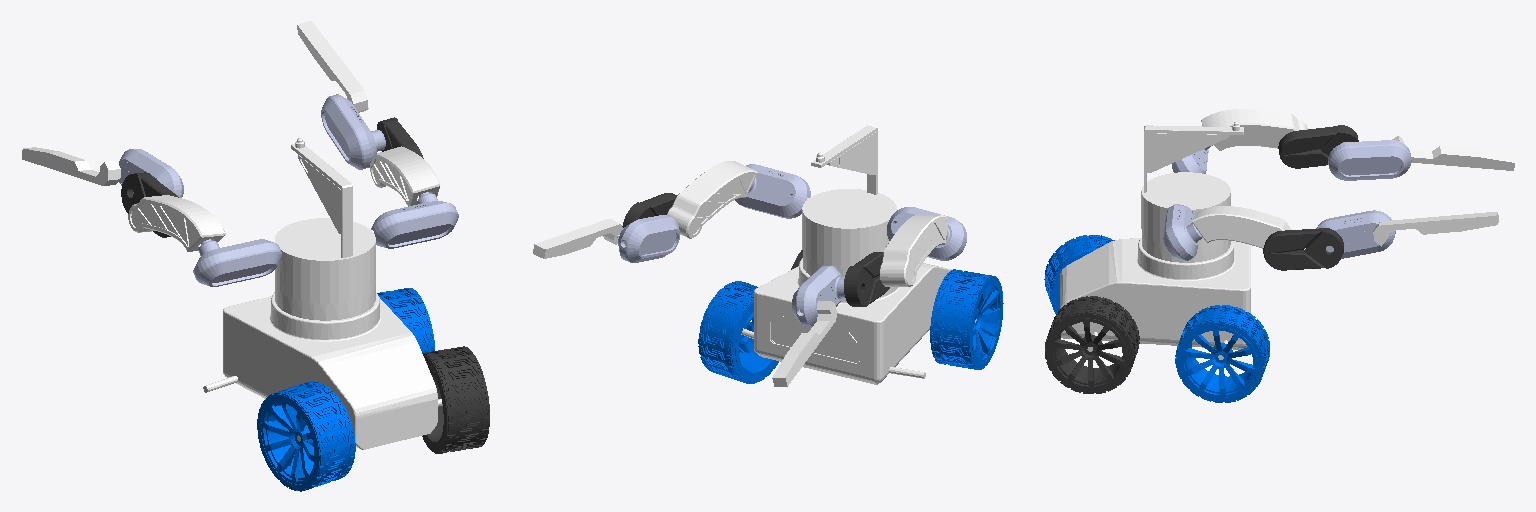
URDF robot description (sarcos_ros):
<?xml version="1.0" encoding="utf-8"?>
<!-- This URDF was automatically created by SolidWorks to URDF Exporter! Originally created by Stephen Brawner (brawner@gmail.com) 
     Commit Version: 1.6.0-4-g7f85cfe  Build Version: 1.6.7995.38578
     For more information, please see http://wiki.ros.org/sw_urdf_exporter -->
<robot
  name="sarcos_ros">
  <link
    name="base_link">
    <inertial>
      <origin
        xyz="1.57110592702292E-07 -0.0114988182652271 -0.0262003555618295"
        rpy="0 0 0" />
      <mass
        value="0.625337692508737" />
      <inertia
        ixx="0.00101817375547137"
        ixy="-3.89533844661635E-09"
        ixz="2.29757795291041E-09"
        iyy="0.000583359757013274"
        iyz="-7.51354685838112E-05"
        izz="0.00112726658832942" />
    </inertial>
    <visual>
      <origin
        xyz="0 0 0"
        rpy="0 0 0" />
      <geometry>
        <mesh
          filename="package://sarcos_ros/meshes/base_link.STL" />
      </geometry>
      <material
        name="">
        <color
          rgba="1 1 1 1" />
      </material>
    </visual>
    <collision>
      <origin
        xyz="0 0 0"
        rpy="0 0 0" />
      <geometry>
        <mesh
          filename="package://sarcos_ros/meshes/base_link.STL" />
      </geometry>
    </collision>
  </link>
  <link
    name="zeroMotorRight_Link">
    <inertial>
      <origin
        xyz="0.0288339969591235 0.000605151306929841 0.00210712498274968"
        rpy="0 0 0" />
      <mass
        value="0.0238510653316764" />
      <inertia
        ixx="1.76328141550623E-06"
        ixy="-2.04842072766507E-08"
        ixz="-2.07048439463759E-07"
        iyy="5.94033300879421E-06"
        iyz="4.07237137064807E-07"
        izz="6.11107617523777E-06" />
    </inertial>
    <visual>
      <origin
        xyz="0 0 0"
        rpy="0 0 0" />
      <geometry>
        <mesh
          filename="package://sarcos_ros/meshes/zeroMotorRight_Link.STL" />
      </geometry>
      <material
        name="">
        <color
          rgba="0.792156862745098 0.819607843137255 0.933333333333333 1" />
      </material>
    </visual>
    <collision>
      <origin
        xyz="0 0 0"
        rpy="0 0 0" />
      <geometry>
        <mesh
          filename="package://sarcos_ros/meshes/zeroMotorRight_Link.STL" />
      </geometry>
    </collision>
  </link>
  <joint
    name="zeroMotorRight_joint"
    type="continuous">
    <origin
      xyz="-0.0345531780300355 0.0016276007403668 0.0454270724634839"
      rpy="1.5707963267949 0 3.14159265358979" />
    <parent
      link="base_link" />
    <child
      link="zeroMotorRight_Link" />
    <axis
      xyz="0.998892435317369 0 0.0470521271117068" />
  </joint>
  <link
    name="firstMotorRight_Link">
    <inertial>
      <origin
        xyz="0.00242182390746082 0.00645667093859209 0.0379735120341711"
        rpy="0 0 0" />
      <mass
        value="0.0264672955721402" />
      <inertia
        ixx="1.15054889812978E-05"
        ixy="2.36289000830788E-07"
        ixz="-1.30736425658776E-06"
        iyy="1.13379853200377E-05"
        iyz="1.39900211255514E-06"
        izz="2.21419418628149E-06" />
    </inertial>
    <visual>
      <origin
        xyz="0 0 0"
        rpy="0 0 0" />
      <geometry>
        <mesh
          filename="package://sarcos_ros/meshes/firstMotorRight_Link.STL" />
      </geometry>
      <material
        name="">
        <color
          rgba="1 1 1 1" />
      </material>
    </visual>
    <collision>
      <origin
        xyz="0 0 0"
        rpy="0 0 0" />
      <geometry>
        <mesh
          filename="package://sarcos_ros/meshes/firstMotorRight_Link.STL" />
      </geometry>
    </collision>
  </link>
  <joint
    name="zeroMotorRight_joint"
    type="continuous">
    <origin
      xyz="0.0424215301292724 0.00798990925739709 0.01195253255049"
      rpy="0 0 0" />
    <parent
      link="zeroMotorRight_Link" />
    <child
      link="firstMotorRight_Link" />
    <axis
      xyz="-0.03667936756103 0.626343126221143 0.778684090135947" />
  </joint>
  <link
    name="secoudMotorRight_Link">
    <inertial>
      <origin
        xyz="-0.0138724210075934 0.0016625626643367 0.0118296038807524"
        rpy="0 0 0" />
      <mass
        value="0.014141053801931" />
      <inertia
        ixx="1.94679966344743E-06"
        ixy="1.09641479269606E-07"
        ixz="-4.84777717550278E-08"
        iyy="1.36681571969856E-06"
        iyz="-3.60531904921112E-08"
        izz="9.96277338656566E-07" />
    </inertial>
    <visual>
      <origin
        xyz="0 0 0"
        rpy="0 0 0" />
      <geometry>
        <mesh
          filename="package://sarcos_ros/meshes/secoudMotorRight_Link.STL" />
      </geometry>
      <material
        name="">
        <color
          rgba="0.298039215686275 0.298039215686275 0.298039215686275 1" />
      </material>
    </visual>
    <collision>
      <origin
        xyz="0 0 0"
        rpy="0 0 0" />
      <geometry>
        <mesh
          filename="package://sarcos_ros/meshes/secoudMotorRight_Link.STL" />
      </geometry>
    </collision>
  </link>
  <joint
    name="secoudMotorRight_joint"
    type="continuous">
    <origin
      xyz="0.00766900986211685 -0.00469769489636174 0.0686545632954788"
      rpy="0 0 0" />
    <parent
      link="firstMotorRight_Link" />
    <child
      link="secoudMotorRight_Link" />
    <axis
      xyz="0.979188533273799 0.178169147686185 -0.097188328094917" />
  </joint>
  <link
    name="thirdMotorRight_Link">
    <inertial>
      <origin
        xyz="-0.0101929964639558 -0.0019283790706171 0.0151152882146193"
        rpy="0 0 0" />
      <mass
        value="0.0238510654775313" />
      <inertia
        ixx="6.37839114058475E-06"
        ixy="1.4092811130397E-07"
        ixz="-4.483124373806E-07"
        iyy="5.6388280812397E-06"
        iyz="-6.07584067924562E-08"
        izz="1.79747145270547E-06" />
    </inertial>
    <visual>
      <origin
        xyz="0 0 0"
        rpy="0 0 0" />
      <geometry>
        <mesh
          filename="package://sarcos_ros/meshes/thirdMotorRight_Link.STL" />
      </geometry>
      <material
        name="">
        <color
          rgba="0.792156862745098 0.819607843137255 0.933333333333333 1" />
      </material>
    </visual>
    <collision>
      <origin
        xyz="0 0 0"
        rpy="0 0 0" />
      <geometry>
        <mesh
          filename="package://sarcos_ros/meshes/thirdMotorRight_Link.STL" />
      </geometry>
    </collision>
  </link>
  <joint
    name="thirdMotorRight_joint"
    type="continuous">
    <origin
      xyz="-0.0214110884538761 0.00189872717274986 0.0336748493081888"
      rpy="0 0 0" />
    <parent
      link="secoudMotorRight_Link" />
    <child
      link="thirdMotorRight_Link" />
    <axis
      xyz="0.979188533273799 0.178169147686187 -0.0971883280949144" />
  </joint>
  <link
    name="foursMotorRight_Link">
    <inertial>
      <origin
        xyz="0.0133197462039166 -0.00979349967510837 0.0394374176001003"
        rpy="0 0 0" />
      <mass
        value="0.00752758083943429" />
      <inertia
        ixx="5.27991960753409E-06"
        ixy="1.16010646519387E-07"
        ixz="-6.63575957912975E-07"
        iyy="5.21671751196104E-06"
        iyz="8.60202135173567E-07"
        izz="3.6937416606739E-07" />
    </inertial>
    <visual>
      <origin
        xyz="0 0 0"
        rpy="0 0 0" />
      <geometry>
        <mesh
          filename="package://sarcos_ros/meshes/foursMotorRight_Link.STL" />
      </geometry>
      <material
        name="">
        <color
          rgba="1 1 1 1" />
      </material>
    </visual>
    <collision>
      <origin
        xyz="0 0 0"
        rpy="0 0 0" />
      <geometry>
        <mesh
          filename="package://sarcos_ros/meshes/foursMotorRight_Link.STL" />
      </geometry>
    </collision>
  </link>
  <joint
    name="foursMotorRight_Link"
    type="continuous">
    <origin
      xyz="-0.000899367915268998 -0.000362797866534981 0.0365754811631214"
      rpy="0 0 0" />
    <parent
      link="thirdMotorRight_Link" />
    <child
      link="foursMotorRight_Link" />
    <axis
      xyz="-0.979188533273798 -0.178169147686187 0.0971883280949199" />
  </joint>
  <link
    name="zeroMotorLeft_link">
    <inertial>
      <origin
        xyz="-0.0294236242267078 0.000561967168696692 -0.000604085505952923"
        rpy="0 0 0" />
      <mass
        value="0.0238510653956462" />
      <inertia
        ixx="1.76303886565884E-06"
        ixy="-1.72999085216719E-08"
        ixz="-2.05409500510636E-07"
        iyy="5.90084774634345E-06"
        iyz="3.96576940809878E-07"
        izz="6.15080401777687E-06" />
    </inertial>
    <visual>
      <origin
        xyz="0 0 0"
        rpy="0 0 0" />
      <geometry>
        <mesh
          filename="package://sarcos_ros/meshes/zeroMotorLeft_link.STL" />
      </geometry>
      <material
        name="">
        <color
          rgba="0.792156862745098 0.819607843137255 0.933333333333333 1" />
      </material>
    </visual>
    <collision>
      <origin
        xyz="0 0 0"
        rpy="0 0 0" />
      <geometry>
        <mesh
          filename="package://sarcos_ros/meshes/zeroMotorLeft_link.STL" />
      </geometry>
    </collision>
  </link>
  <joint
    name="zeroMotorLeft_joint"
    type="continuous">
    <origin
      xyz="0.0350708936691766 -0.00165199117156206 0.0454271008083242"
      rpy="1.5707963267949 0 3.14159265358979" />
    <parent
      link="base_link" />
    <child
      link="zeroMotorLeft_link" />
    <axis
      xyz="0.998892435317369 0 0.0470521271117068" />
  </joint>
  <link
    name="firstMotorLeft_link">
    <inertial>
      <origin
        xyz="-0.00476754830657811 0.00437289995356149 0.0380484203392575"
        rpy="0 0 0" />
      <mass
        value="0.0264671805088153" />
      <inertia
        ixx="1.1494003084938E-05"
        ixy="-2.95179386303468E-07"
        ixz="1.37316048241009E-06"
        iyy="1.11144484730592E-05"
        iyz="1.96035001366671E-06"
        izz="2.44918954163026E-06" />
    </inertial>
    <visual>
      <origin
        xyz="0 0 0"
        rpy="0 0 0" />
      <geometry>
        <mesh
          filename="package://sarcos_ros/meshes/firstMotorLeft_link.STL" />
      </geometry>
      <material
        name="">
        <color
          rgba="1 1 1 1" />
      </material>
    </visual>
    <collision>
      <origin
        xyz="0 0 0"
        rpy="0 0 0" />
      <geometry>
        <mesh
          filename="package://sarcos_ros/meshes/firstMotorLeft_link.STL" />
      </geometry>
    </collision>
  </link>
  <joint
    name="firstMotorLeft_joint"
    type="continuous">
    <origin
      xyz="-0.0438931004217862 0.00748344797963829 0.00827370254849455"
      rpy="0 0 0" />
    <parent
      link="zeroMotorLeft_link" />
    <child
      link="firstMotorLeft_link" />
    <axis
      xyz="-0.03667936756103 0.626343126221143 0.778684090135947" />
  </joint>
  <link
    name="secoundMotorLeft_link">
    <inertial>
      <origin
        xyz="-0.188848910341188 0.00202469152804 0.000931391607282034"
        rpy="0 0 0" />
      <mass
        value="0.0141410538019213" />
      <inertia
        ixx="1.93401376704028E-06"
        ixy="-6.20310274765879E-08"
        ixz="1.61301021426582E-07"
        iyy="1.35133177399197E-06"
        iyz="-5.56307585550526E-08"
        izz="1.0245471807712E-06" />
    </inertial>
    <visual>
      <origin
        xyz="0 0 0"
        rpy="0 0 0" />
      <geometry>
        <mesh
          filename="package://sarcos_ros/meshes/secoundMotorLeft_link.STL" />
      </geometry>
      <material
        name="">
        <color
          rgba="0.298039215686275 0.298039215686275 0.298039215686275 1" />
      </material>
    </visual>
    <collision>
      <origin
        xyz="0 0 0"
        rpy="0 0 0" />
      <geometry>
        <mesh
          filename="package://sarcos_ros/meshes/secoundMotorLeft_link.STL" />
      </geometry>
    </collision>
  </link>
  <joint
    name="secoundMotorLeft_joint"
    type="continuous">
    <origin
      xyz="0.163607712112388 -0.00419126196344322 0.0756129852094032"
      rpy="0 0 0" />
    <parent
      link="firstMotorLeft_link" />
    <child
      link="secoundMotorLeft_link" />
    <axis
      xyz="0.979188533273799 0.178169147686185 -0.097188328094917" />
  </joint>
  <link
    name="thirdMotorLeft_link">
    <inertial>
      <origin
        xyz="0.010198536226093 0.00204391762470618 0.015096357932842"
        rpy="0 0 0" />
      <mass
        value="0.023851065656892" />
      <inertia
        ixx="6.38338095388592E-06"
        ixy="-3.54952933923875E-09"
        ixz="4.79791301222447E-07"
        iyy="5.39220113259601E-06"
        iyz="-9.26946281000291E-07"
        izz="2.03910867555415E-06" />
    </inertial>
    <visual>
      <origin
        xyz="0 0 0"
        rpy="0 0 0" />
      <geometry>
        <mesh
          filename="package://sarcos_ros/meshes/thirdMotorLeft_link.STL" />
      </geometry>
      <material
        name="">
        <color
          rgba="0.792156862745098 0.819607843137255 0.933333333333333 1" />
      </material>
    </visual>
    <collision>
      <origin
        xyz="0 0 0"
        rpy="0 0 0" />
      <geometry>
        <mesh
          filename="package://sarcos_ros/meshes/thirdMotorLeft_link.STL" />
      </geometry>
    </collision>
  </link>
  <joint
    name="thirdMotorLeft_joint"
    type="continuous">
    <origin
      xyz="-0.183141091168854 0.00354310838872277 0.0228216057331574"
      rpy="0 0 0" />
    <parent
      link="secoundMotorLeft_link" />
    <child
      link="thirdMotorLeft_link" />
    <axis
      xyz="0.979188533273799 0.178169147686187 -0.0971883280949144" />
  </joint>
  <link
    name="foursMotorLeft_link">
    <inertial>
      <origin
        xyz="-0.0114600651261472 0.0119054502846926 0.0394406559607086"
        rpy="0 0 0" />
      <mass
        value="0.00752758083943427" />
      <inertia
        ixx="5.30060369249791E-06"
        ixy="9.93346109899798E-08"
        ixz="5.85121659244777E-07"
        iyy="5.22095316219352E-06"
        iyz="-8.47861628788636E-07"
        izz="3.44454430871047E-07" />
    </inertial>
    <visual>
      <origin
        xyz="0 0 0"
        rpy="0 0 0" />
      <geometry>
        <mesh
          filename="package://sarcos_ros/meshes/foursMotorLeft_link.STL" />
      </geometry>
      <material
        name="">
        <color
          rgba="1 1 1 1" />
      </material>
    </visual>
    <collision>
      <origin
        xyz="0 0 0"
        rpy="0 0 0" />
      <geometry>
        <mesh
          filename="package://sarcos_ros/meshes/foursMotorLeft_link.STL" />
      </geometry>
    </collision>
  </link>
  <joint
    name="foursMotorLeft_joint"
    type="continuous">
    <origin
      xyz="0.000790353083629715 0.00838558065397219 0.0356056693007139"
      rpy="0 0 0" />
    <parent
      link="thirdMotorLeft_link" />
    <child
      link="foursMotorLeft_link" />
    <axis
      xyz="-0.979188533273798 -0.178169147686187 0.0971883280949199" />
  </joint>
  <link
    name="fr_wheel_link">
    <inertial>
      <origin
        xyz="-0.0013913966383599 -0.000385719032451361 0.000592939699988221"
        rpy="0 0 0" />
      <mass
        value="0.0665281531957643" />
      <inertia
        ixx="4.54036230403242E-05"
        ixy="-2.9905615798962E-09"
        ixz="-2.7089800903744E-06"
        iyy="2.77282866138251E-05"
        iyz="-1.73724984756484E-08"
        izz="2.8142485128274E-05" />
    </inertial>
    <visual>
      <origin
        xyz="0 0 0"
        rpy="0 0 0" />
      <geometry>
        <mesh
          filename="package://sarcos_ros/meshes/fr_wheel_link.STL" />
      </geometry>
      <material
        name="">
        <color
          rgba="0.298039215686275 0.298039215686275 0.298039215686275 1" />
      </material>
    </visual>
    <collision>
      <origin
        xyz="0 0 0"
        rpy="0 0 0" />
      <geometry>
        <mesh
          filename="package://sarcos_ros/meshes/fr_wheel_link.STL" />
      </geometry>
    </collision>
  </link>
  <joint
    name="fr_wheel_joint"
    type="continuous">
    <origin
      xyz="-0.0696613494836042 0.0255918417549046 -0.0494289321881346"
      rpy="1.5707963267949 0 3.14159265358979" />
    <parent
      link="base_link" />
    <child
      link="fr_wheel_link" />
    <axis
      xyz="0.988456724946183 0 -0.151503474906242" />
  </joint>
  <link
    name="fl_wheel_link">
    <inertial>
      <origin
        xyz="0.00136692919903666 3.84663185792264E-05 0.000752573034360993"
        rpy="0 0 0" />
      <mass
        value="0.0665281531961293" />
      <inertia
        ixx="4.5404075332318E-05"
        ixy="-4.1283020457171E-10"
        ixz="2.70616486997741E-06"
        iyy="2.77103521234228E-05"
        iyz="2.48013338051377E-09"
        izz="2.81599673268338E-05" />
    </inertial>
    <visual>
      <origin
        xyz="0 0 0"
        rpy="0 0 0" />
      <geometry>
        <mesh
          filename="package://sarcos_ros/meshes/fl_wheel_link.STL" />
      </geometry>
      <material
        name="">
        <color
          rgba="0 0.501960784313725 1 1" />
      </material>
    </visual>
    <collision>
      <origin
        xyz="0 0 0"
        rpy="0 0 0" />
      <geometry>
        <mesh
          filename="package://sarcos_ros/meshes/fl_wheel_link.STL" />
      </geometry>
    </collision>
  </link>
  <joint
    name="fl_wheel_joint"
    type="continuous">
    <origin
      xyz="0.0696613494836042 0.0255918417549046 -0.0494289321881345"
      rpy="1.5707963267949 0 3.14159265358979" />
    <parent
      link="base_link" />
    <child
      link="fl_wheel_link" />
    <axis
      xyz="-0.988456724946183 0 -0.151503474906243" />
  </joint>
  <link
    name="br_wheel_link">
    <inertial>
      <origin
        xyz="-0.00139139663831953 -0.00038571903247777 0.000592939700015574"
        rpy="0 0 0" />
      <mass
        value="0.0665281531959546" />
      <inertia
        ixx="4.54036230403269E-05"
        ixy="-2.9905615646453E-09"
        ixz="-2.70898009039186E-06"
        iyy="2.77282866138651E-05"
        iyz="-1.73724984749855E-08"
        izz="2.81424851282923E-05" />
    </inertial>
    <visual>
      <origin
        xyz="0 0 0"
        rpy="0 0 0" />
      <geometry>
        <mesh
          filename="package://sarcos_ros/meshes/br_wheel_link.STL" />
      </geometry>
      <material
        name="">
        <color
          rgba="0 0.501960784313725 1 1" />
      </material>
    </visual>
    <collision>
      <origin
        xyz="0 0 0"
        rpy="0 0 0" />
      <geometry>
        <mesh
          filename="package://sarcos_ros/meshes/br_wheel_link.STL" />
      </geometry>
    </collision>
  </link>
  <joint
    name="br_wheel_joint"
    type="continuous">
    <origin
      xyz="-0.0552685193675111 -0.0683115471149828 -0.0494289321881345"
      rpy="1.5707963267949 0 3.14159265358979" />
    <parent
      link="base_link" />
    <child
      link="br_wheel_link" />
    <axis
      xyz="0.988456724946183 0 -0.151503474906242" />
  </joint>
  <link
    name="bl_wheel_link">
    <inertial>
      <origin
        xyz="0.00138433736374386 0.000334117665795032 0.000638996645944648"
        rpy="0 0 0" />
      <mass
        value="0.066528153196288" />
      <inertia
        ixx="4.54037385719532E-05"
        ixy="-2.87766063751987E-09"
        ixz="2.70826547052644E-06"
        iyy="2.77237640687271E-05"
        iyz="1.69220346942285E-08"
        izz="2.8146892142014E-05" />
    </inertial>
    <visual>
      <origin
        xyz="0 0 0"
        rpy="0 0 0" />
      <geometry>
        <mesh
          filename="package://sarcos_ros/meshes/bl_wheel_link.STL" />
      </geometry>
      <material
        name="">
        <color
          rgba="0.298039215686275 0.298039215686275 0.298039215686275 1" />
      </material>
    </visual>
    <collision>
      <origin
        xyz="0 0 0"
        rpy="0 0 0" />
      <geometry>
        <mesh
          filename="package://sarcos_ros/meshes/bl_wheel_link.STL" />
      </geometry>
    </collision>
  </link>
  <joint
    name="bl_wheel_joint"
    type="continuous">
    <origin
      xyz="0.0552685193675111 -0.0683115471149828 -0.0494289321881345"
      rpy="1.5707963267949 0 3.14159265358979" />
    <parent
      link="base_link" />
    <child
      link="bl_wheel_link" />
    <axis
      xyz="-0.988456724946183 0 -0.151503474906242" />
  </joint>
  <link
    name="imu_link">
    <inertial>
      <origin
        xyz="-1.57110592695353E-07 0.00337506305817885 -0.0569228325085632"
        rpy="0 0 0" />
      <mass
        value="0.625337692508737" />
      <inertia
        ixx="0.00101817375547137"
        ixy="-2.29757795291231E-09"
        ixz="3.89533844661837E-09"
        iyy="0.00112726658832942"
        iyz="-7.51354685838111E-05"
        izz="0.000583359757013274" />
    </inertial>
    <visual>
      <origin
        xyz="0 0 0"
        rpy="0 0 0" />
      <geometry>
        <mesh
          filename="package://sarcos_ros/meshes/imu_link.STL" />
      </geometry>
      <material
        name="">
        <color
          rgba="1 1 1 1" />
      </material>
    </visual>
    <collision>
      <origin
        xyz="0 0 0"
        rpy="0 0 0" />
      <geometry>
        <mesh
          filename="package://sarcos_ros/meshes/imu_link.STL" />
      </geometry>
    </collision>
  </link>
  <joint
    name="imu_joint"
    type="fixed">
    <origin
      xyz="0 0.0454240142433361 -0.0295754186200084"
      rpy="1.5707963267949 0 3.14159265358979" />
    <parent
      link="base_link" />
    <child
      link="imu_link" />
    <axis
      xyz="0 0 0" />
  </joint>
  <link
    name="body_link">
    <inertial>
      <origin
        xyz="-6.69160337697441E-05 0.0271452254440027 -0.000743142126376301"
        rpy="0 0 0" />
      <mass
        value="0.0996435707092033" />
      <inertia
        ixx="5.86020392476167E-05"
        ixy="2.71733156881557E-07"
        ixz="-2.97656628486858E-08"
        iyy="5.00863555978114E-05"
        iyz="2.37005652238424E-06"
        izz="5.51881842636981E-05" />
    </inertial>
    <visual>
      <origin
        xyz="0 0 0"
        rpy="0 0 0" />
      <geometry>
        <mesh
          filename="package://sarcos_ros/meshes/body_link.STL" />
      </geometry>
      <material
        name="">
        <color
          rgba="1 1 1 1" />
      </material>
    </visual>
    <collision>
      <origin
        xyz="0 0 0"
        rpy="0 0 0" />
      <geometry>
        <mesh
          filename="package://sarcos_ros/meshes/body_link.STL" />
      </geometry>
    </collision>
  </link>
  <joint
    name="body_joint"
    type="continuous">
    <origin
      xyz="0 0 0.0135"
      rpy="1.5707963267949 0 3.09452314768718" />
    <parent
      link="base_link" />
    <child
      link="body_link" />
    <axis
      xyz="0 1 0" />
  </joint>
</robot>

--- Render facts (derived) ---
3 views of the same robot in one strip: view 1: azimuth 30°, elevation 25°; view 2: azimuth 150°, elevation 25°; view 3: azimuth 270°, elevation 25° (orthographic).
Model sarcos_ros with 17 links and 16 joints (15 continuous, 1 fixed), rooted at base_link, posed every joint at zero.
Visible links, largest first — view 1: base_link, body_link, br_wheel_link, bl_wheel_link, firstMotorRight_Link, zeroMotorRight_Link, zeroMotorLeft_link, thirdMotorLeft_link, firstMotorLeft_link, foursMotorLeft_link, foursMotorRight_Link, fl_wheel_link (+4 smaller); view 2: base_link, body_link, br_wheel_link, fl_wheel_link, firstMotorLeft_link, firstMotorRight_Link, zeroMotorLeft_link, thirdMotorLeft_link, thirdMotorRight_Link, foursMotorRight_Link, foursMotorLeft_link, secoudMotorRight_Link (+3 smaller); view 3: base_link, fl_wheel_link, bl_wheel_link, body_link, thirdMotorRight_Link, secoundMotorLeft_link, imu_link, firstMotorLeft_link, firstMotorRight_Link, secoudMotorRight_Link, thirdMotorLeft_link, foursMotorLeft_link (+4 smaller).
Boxes of the visible links, x1,y1,x2,y2 form: base_link: (203,286,442,449); body_link: (275,137,375,303); br_wheel_link: (257,381,355,491); bl_wheel_link: (422,346,489,453); firstMotorRight_Link: (128,195,225,251); zeroMotorRight_Link: (193,239,281,286); zeroMotorLeft_link: (371,192,458,248); thirdMotorLeft_link: (321,94,385,169); firstMotorLeft_link: (370,146,440,206); foursMotorLeft_link: (297,21,368,112); foursMotorRight_Link: (22,147,120,185); fl_wheel_link: (377,288,434,352); base_link: (741,253,976,384); body_link: (802,125,896,268); br_wheel_link: (930,269,1003,369); fl_wheel_link: (698,281,778,383); firstMotorLeft_link: (667,161,757,238); firstMotorRight_Link: (880,215,948,286); zeroMotorLeft_link: (735,164,810,218); thirdMotorLeft_link: (618,215,679,262); thirdMotorRight_Link: (792,266,844,325); foursMotorRight_Link: (772,301,836,386); foursMotorLeft_link: (533,219,623,258); secoudMotorRight_Link: (844,252,889,306); base_link: (1060,233,1250,359); fl_wheel_link: (1175,305,1269,402); bl_wheel_link: (1045,296,1139,393); body_link: (1141,121,1243,246); thirdMotorRight_Link: (1328,140,1411,180); secoundMotorLeft_link: (1263,228,1343,270); imu_link: (1061,235,1249,359); firstMotorLeft_link: (1192,206,1292,248); firstMotorRight_Link: (1201,109,1307,150); secoudMotorRight_Link: (1278,125,1358,168); thirdMotorLeft_link: (1316,210,1395,258); foursMotorLeft_link: (1373,212,1498,246).
Size in the robot's own frame: 0.2149 by 0.3388 by 0.1867 metres.
Meshes: 17 distinct files referenced, 16 mesh visuals loaded (16 binary STL); not drawn: 1 (reference not matched to a file when rendering).
